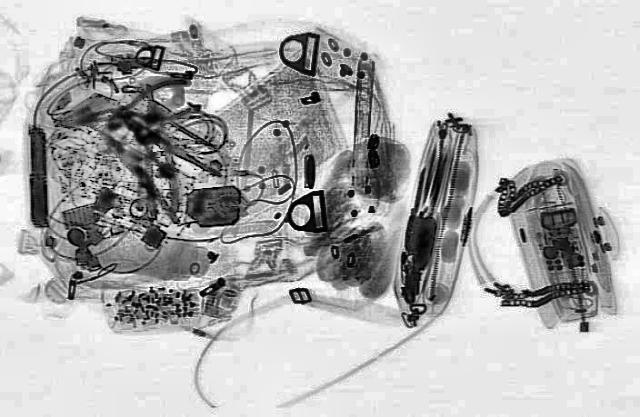Pliers: (54, 98, 245, 222), (66, 76, 204, 139)
